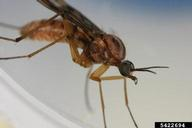Fruit fly: (15, 12, 167, 119)
